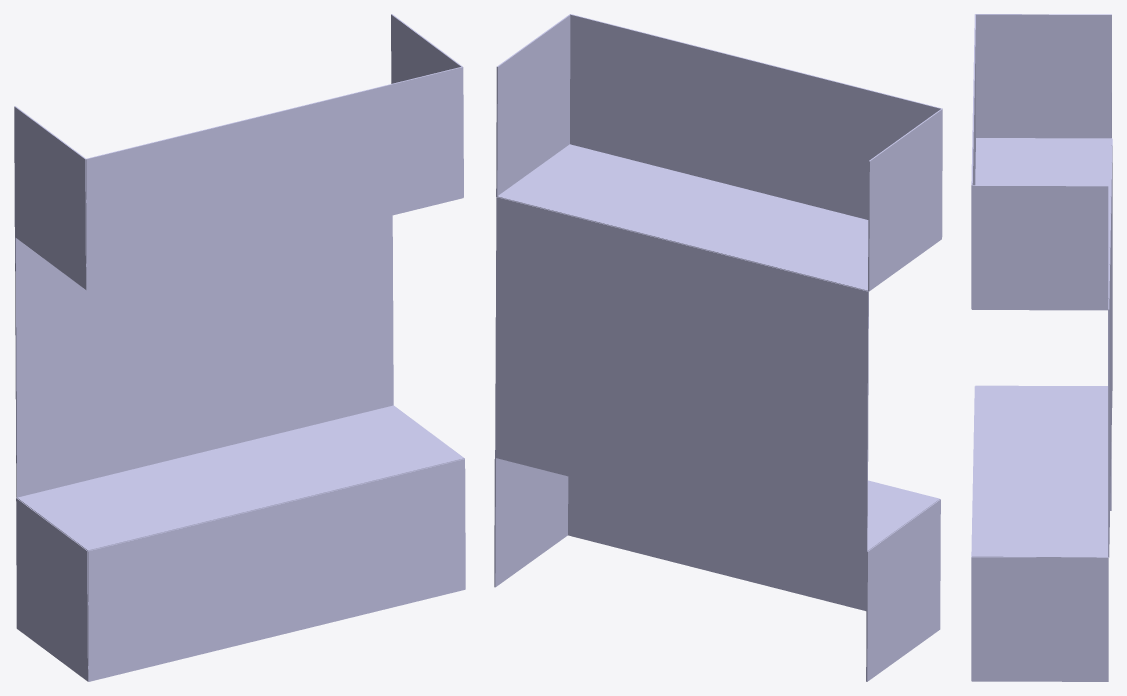
File: PROCaN_Cubebot__44__.dae
3 views of the same model, side by side, from view 1: azimuth 30°, elevation 25°; view 2: azimuth 150°, elevation 25°; view 3: azimuth 270°, elevation 25° (orthographic). The views are drawn at different scales.
Visible parts, largest first — view 1: Node_0000026EEE537420 (×7); view 2: Node_0000026EEE537420 (×9); view 3: Node_0000026EEE537420 (×8).
Part boxes in pixels (<box>): Node_0000026EEE537420 (×7): <box>14,14,465,681</box>; Node_0000026EEE537420 (×9): <box>494,14,942,681</box>; Node_0000026EEE537420 (×8): <box>971,14,1112,681</box>.
Bounding box in the file's own units: 0.3039 × 0.4016 × 0.1035.
